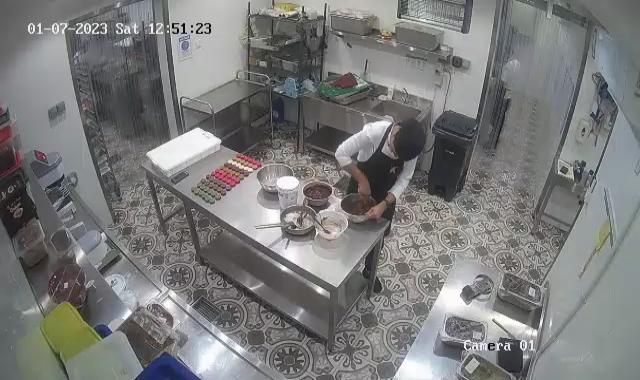no_hairnet: (387, 122, 428, 162)
